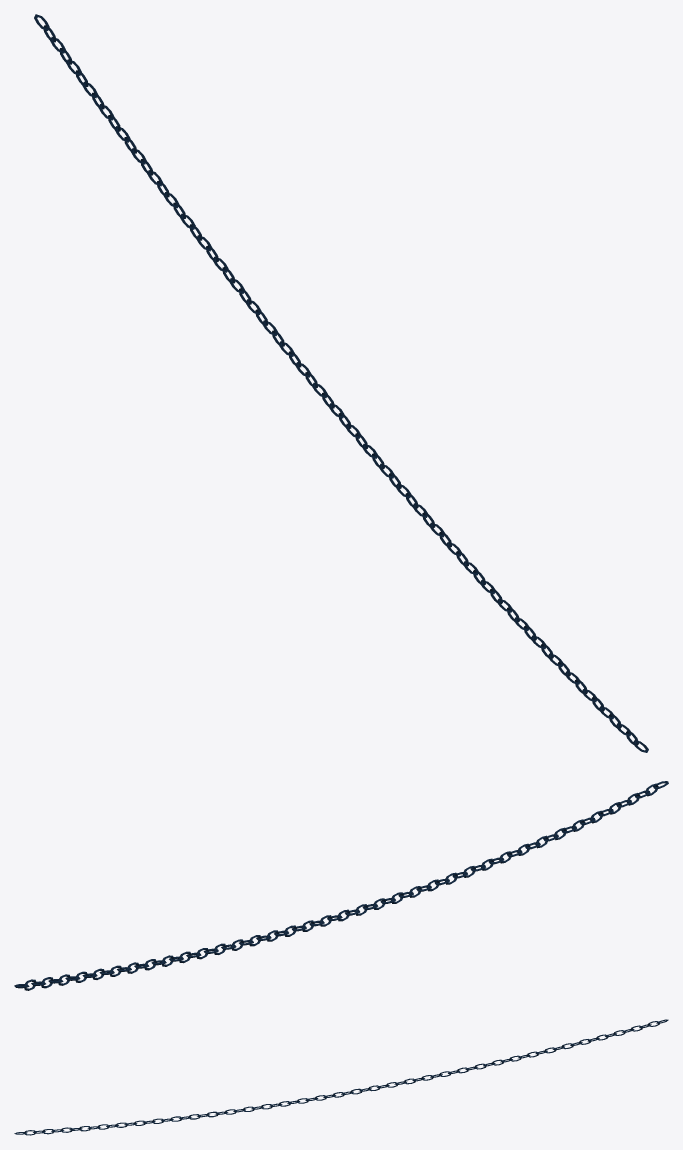
The model's file is port_chains.FBX.
3 views of the same model, one above another, from view 1: azimuth 30°, elevation 25°; view 2: azimuth 150°, elevation 25°; view 3: azimuth 270°, elevation 25° (orthographic). The views are drawn at different scales.
Visible parts, largest first — view 1: port_chains; view 2: port_chains; view 3: port_chains.
Boxes of the visible parts, x1,y1,x2,y2 form: port_chains: [34, 14, 648, 752]; port_chains: [14, 781, 668, 990]; port_chains: [14, 1019, 668, 1135].
Size of the model in its own units: 152 by 701 by 3298.
